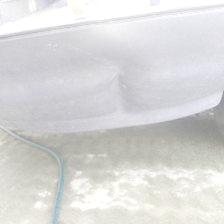bumper_dent: (47, 37, 155, 142)
